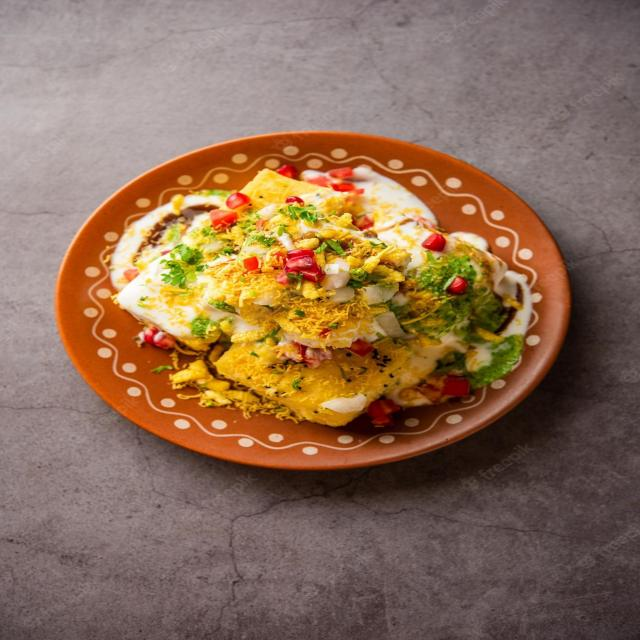dhokla: (118, 151, 532, 427)
